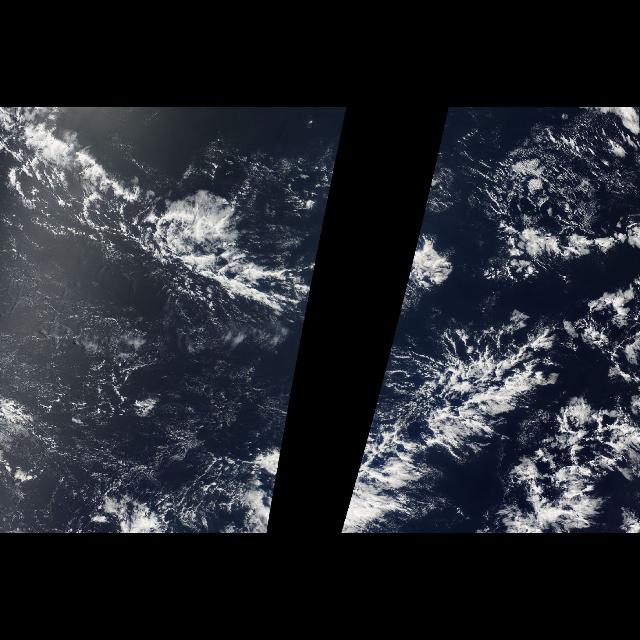Fish: (406, 329, 582, 525), (80, 164, 294, 314)
